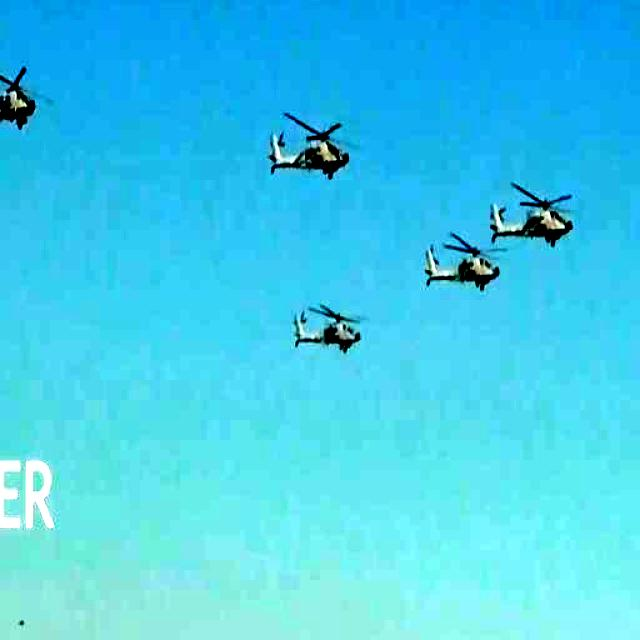drone: (412, 211, 505, 342), (252, 92, 369, 194), (488, 159, 602, 259), (278, 282, 368, 381), (0, 32, 52, 154)
